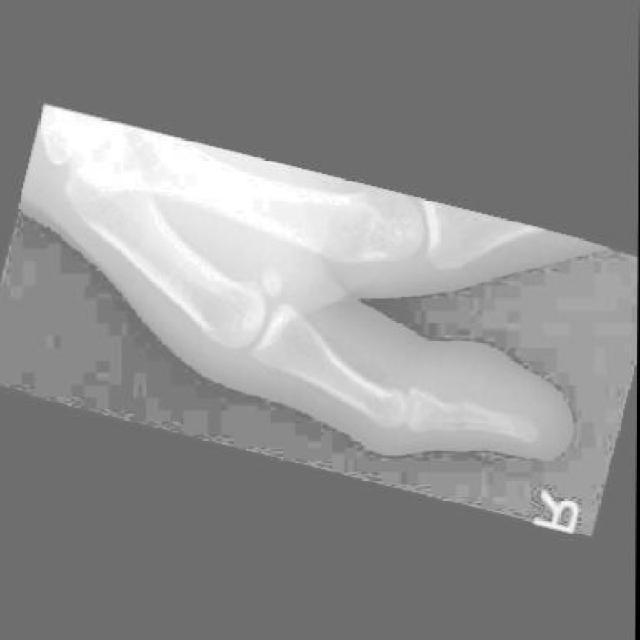Fracture: (425, 391, 476, 439)
